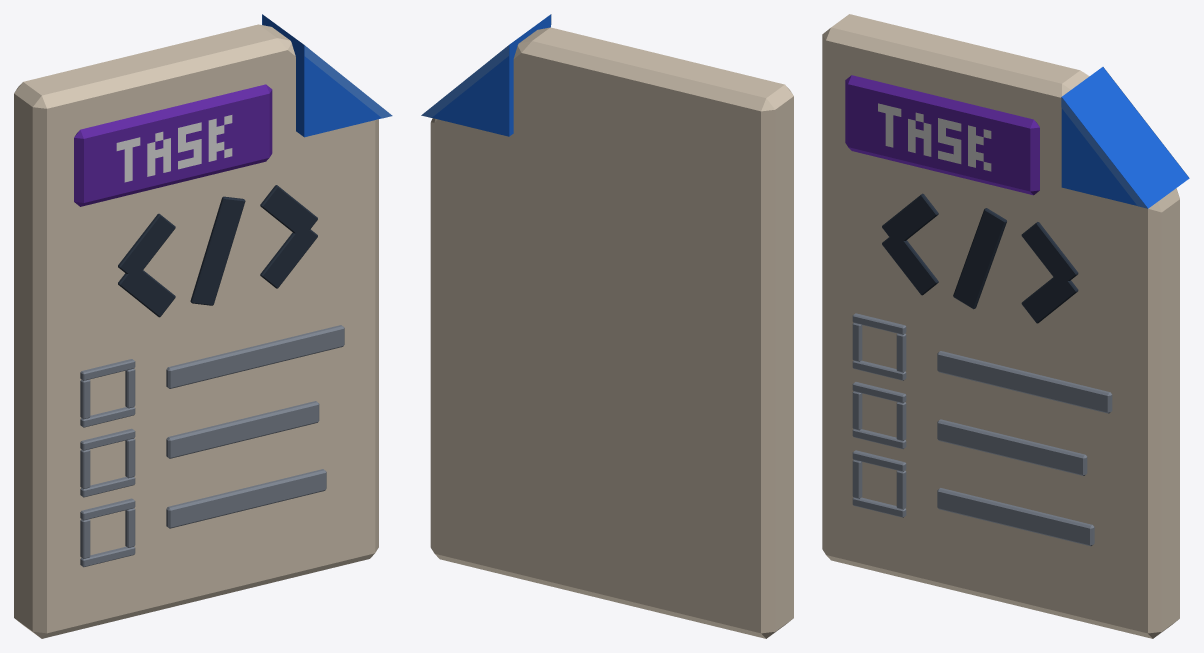
File: work_coding_task_v01.glb
The picture shows the model from 3 angles, left to right: view 1: azimuth 30°, elevation 25°; view 2: azimuth 150°, elevation 25°; view 3: azimuth 330°, elevation 25°; orthographic projection.
Parts seen in each view (by area): view 1: coding_task; view 2: coding_task; view 3: coding_task.
Part boxes in pixels (left/top/right/bottom): coding_task: left=14, top=14, right=392, bottom=638; coding_task: left=421, top=14, right=793, bottom=638; coding_task: left=822, top=14, right=1189, bottom=638.
Size of the model in its own units: 0.96 by 1.44 by 0.204.
